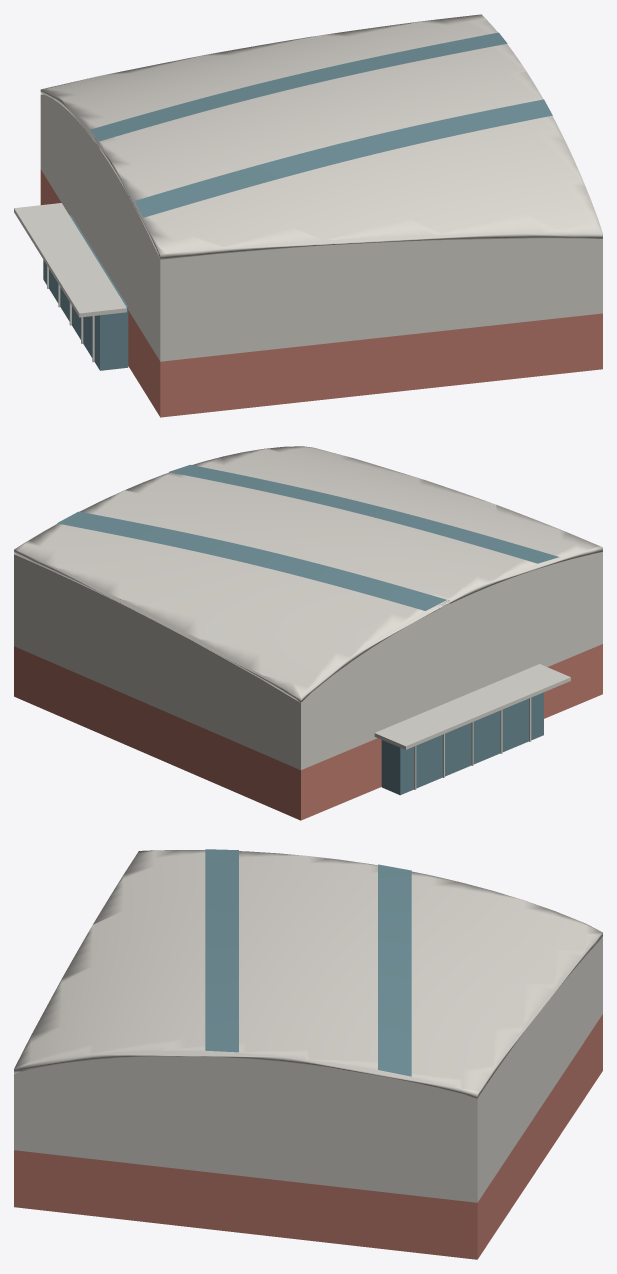
File: shaw.glb
3 views of the same model, one above another, from view 1: azimuth 30°, elevation 25°; view 2: azimuth 150°, elevation 25°; view 3: azimuth 270°, elevation 25° (orthographic). The views are drawn at different scales.
Visible parts, largest first — view 1: SHAW_vault, SHAW_hall, SHAW_plinth, SHAW_vault_glass_-28, SHAW_canopy, SHAW_vault_glass_28, SHAW_atrium; view 2: SHAW_vault, SHAW_hall, SHAW_plinth, SHAW_atrium, SHAW_vault_glass_28, SHAW_canopy, SHAW_vault_glass_-28; view 3: SHAW_vault, SHAW_hall, SHAW_plinth, SHAW_vault_glass_28, SHAW_vault_glass_-28.
Boxes of the visible parts, x1,y1,x2,y2 form: SHAW_vault: [40, 14, 602, 259]; SHAW_hall: [40, 94, 602, 361]; SHAW_plinth: [40, 169, 602, 417]; SHAW_vault_glass_-28: [134, 99, 552, 217]; SHAW_canopy: [14, 203, 126, 317]; SHAW_vault_glass_28: [90, 32, 507, 141]; SHAW_atrium: [43, 215, 128, 370]; SHAW_vault: [14, 446, 602, 702]; SHAW_hall: [14, 552, 602, 769]; SHAW_plinth: [14, 644, 602, 820]; SHAW_atrium: [381, 692, 543, 795]; SHAW_vault_glass_28: [57, 511, 446, 610]; SHAW_canopy: [374, 664, 570, 749]; SHAW_vault_glass_-28: [169, 464, 559, 563]; SHAW_vault: [14, 850, 602, 1098]; SHAW_hall: [14, 938, 602, 1202]; SHAW_plinth: [14, 1014, 602, 1259]; SHAW_vault_glass_28: [378, 864, 411, 1076]; SHAW_vault_glass_-28: [205, 849, 238, 1052].
Size of the model in its own units: 52.54 by 18.1 by 51.5.
